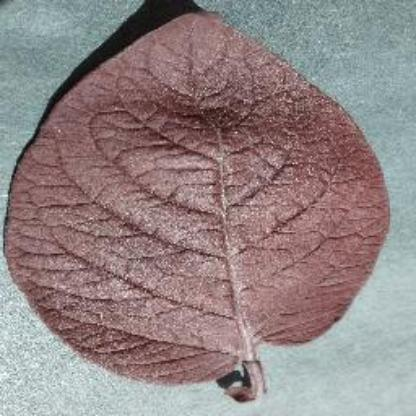Healthy-plant: (11, 6, 393, 406)
